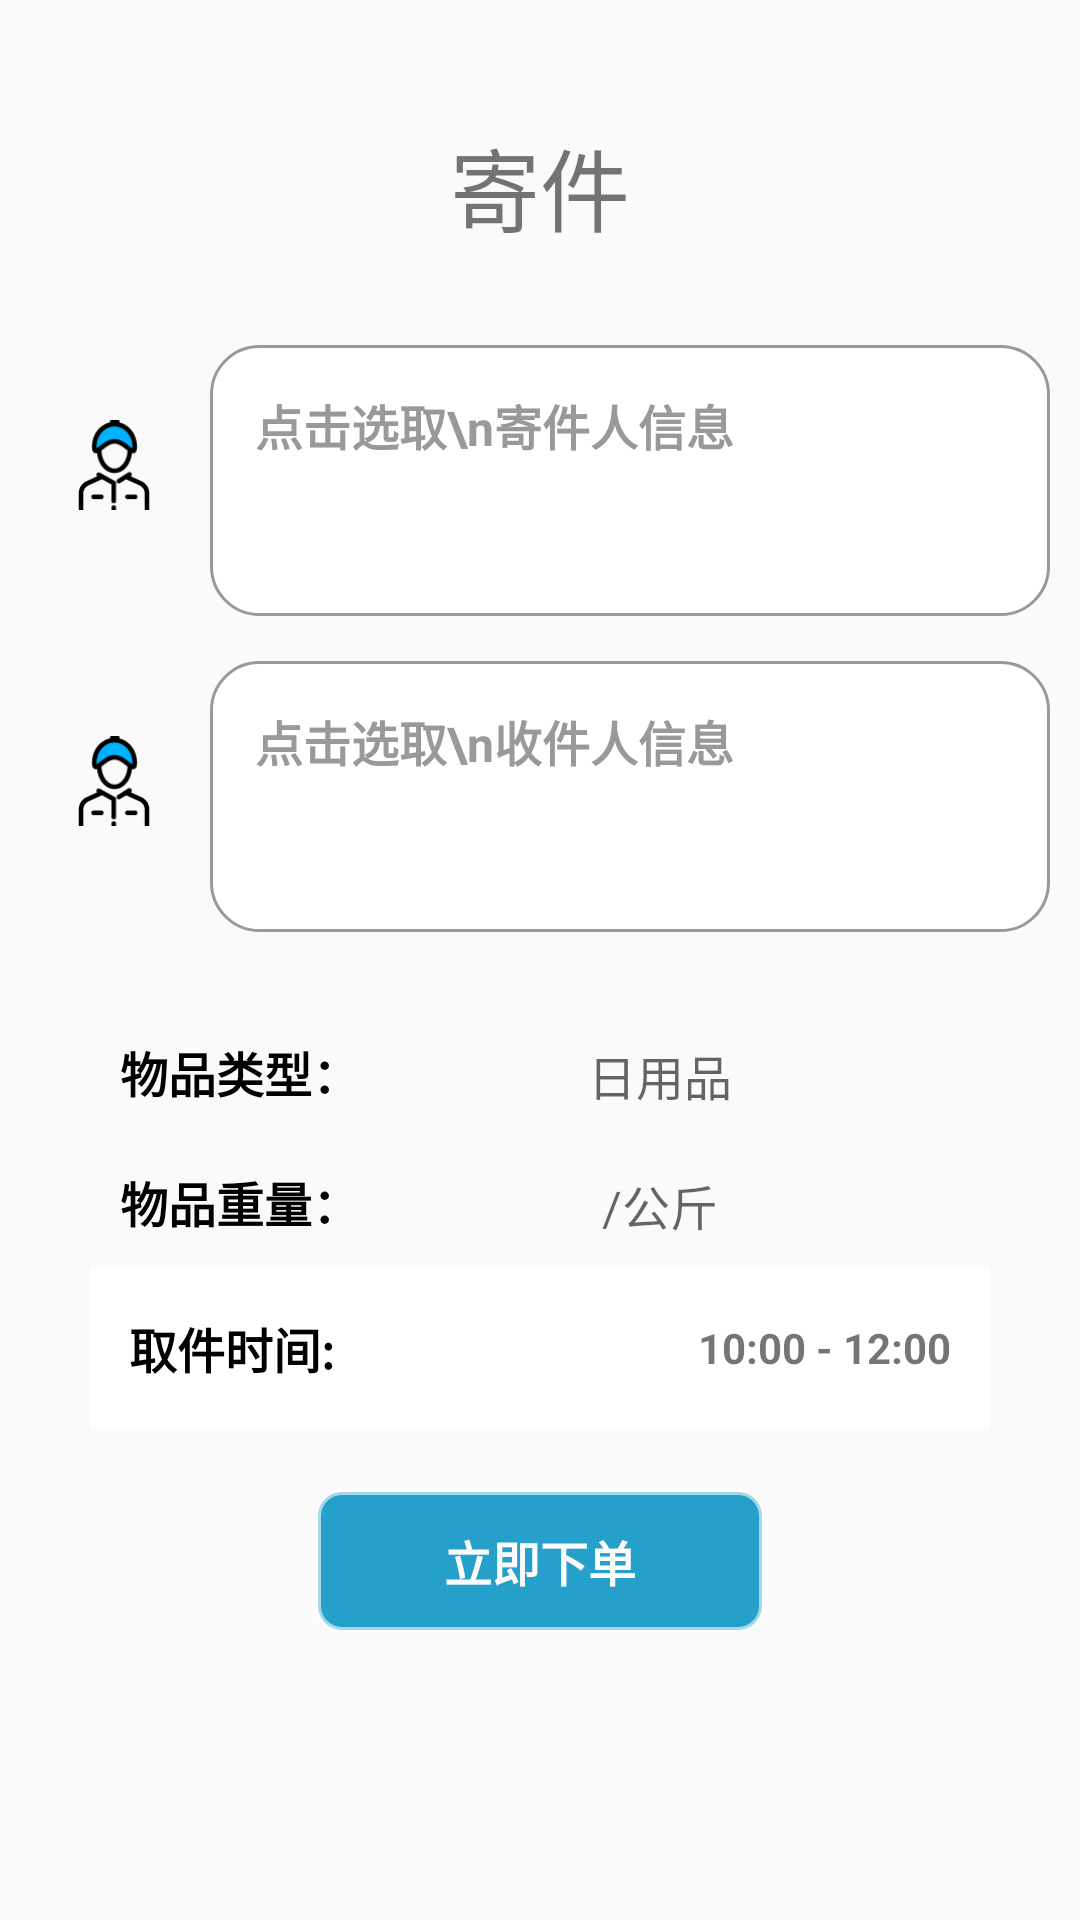

Screen size 1080w x 1920h. Icon name, then its box in pixels as BBox(x1, y1, x2, y2):
sender: BBox(78, 420, 150, 510), BBox(78, 736, 150, 826)
